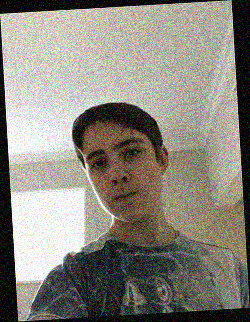without_mask: (84, 138, 162, 224)
